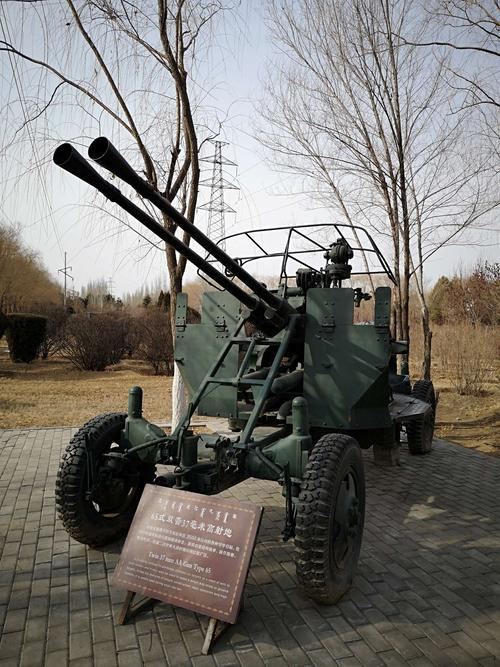MIL_SPG: (53, 138, 438, 604)
